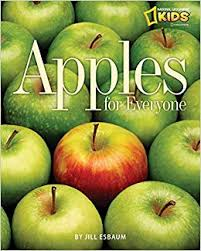apple: (58, 122, 152, 190), (109, 184, 201, 246), (15, 187, 104, 248), (10, 67, 91, 132), (97, 74, 172, 141), (49, 25, 124, 85), (2, 125, 52, 194), (137, 28, 201, 77), (156, 125, 201, 182)
